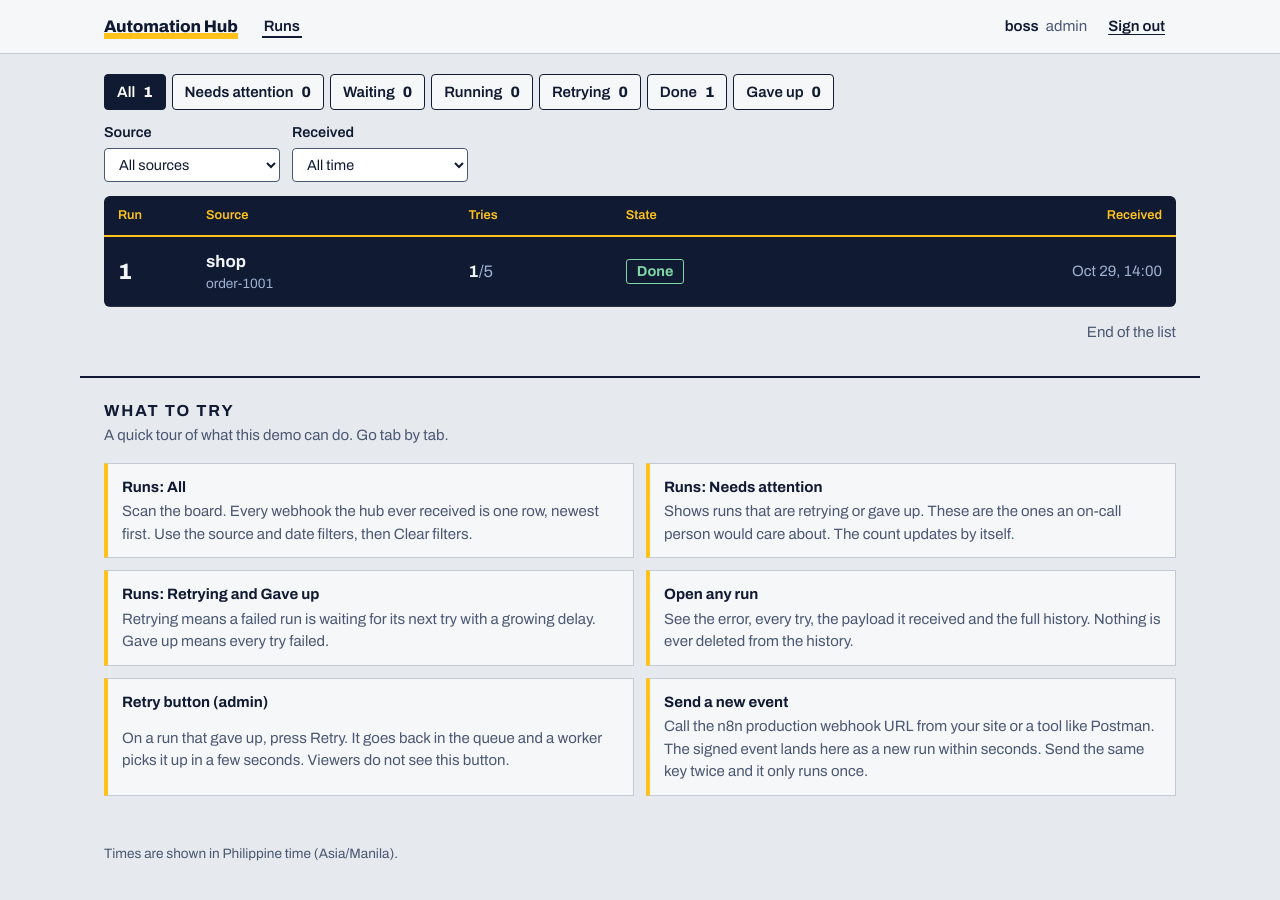
Test: signing in › signs out
Click the button "Sign out": (1137, 26) [1097,10,1176,42]
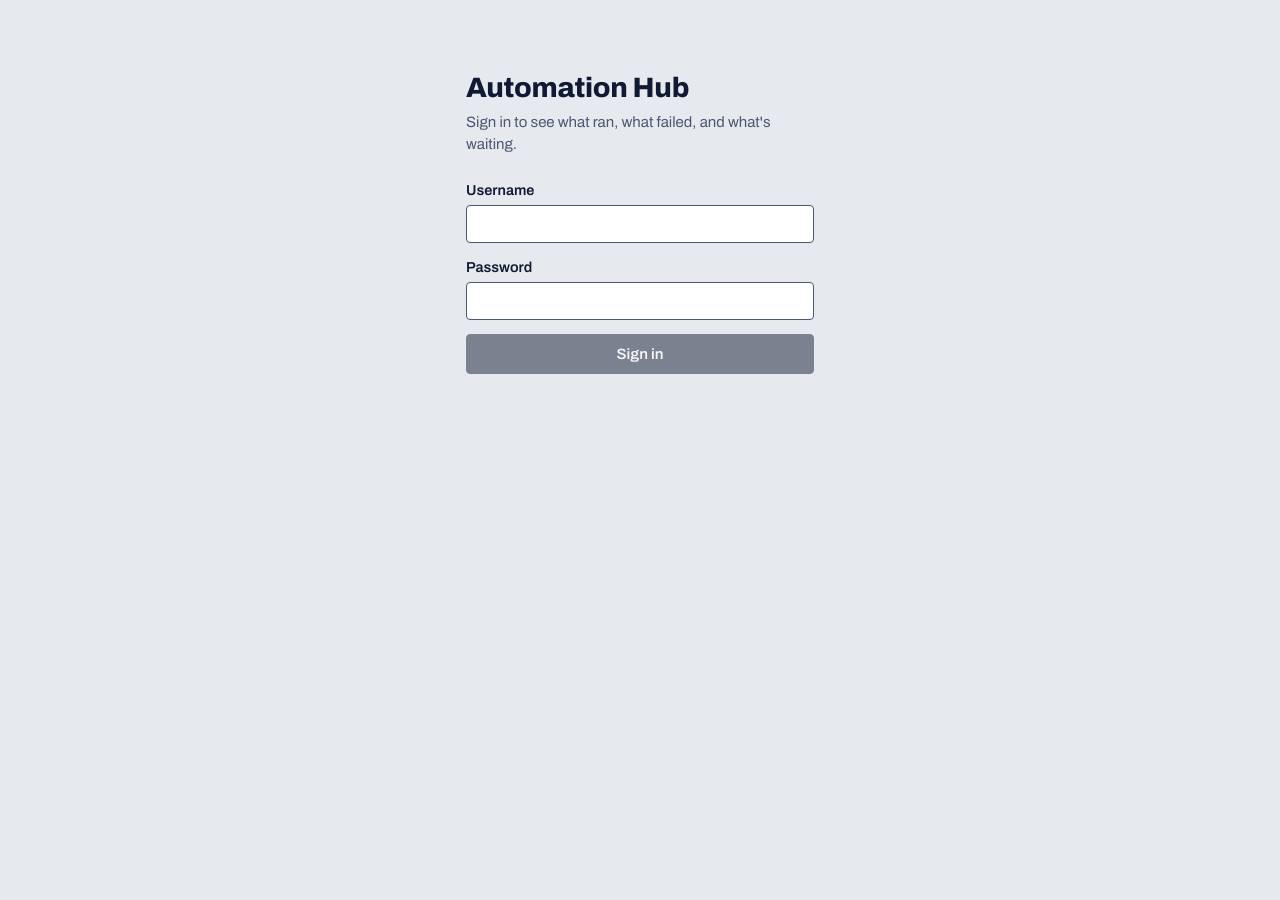
Expected: the field labelled "Username" is shown, [466,205,814,243]
